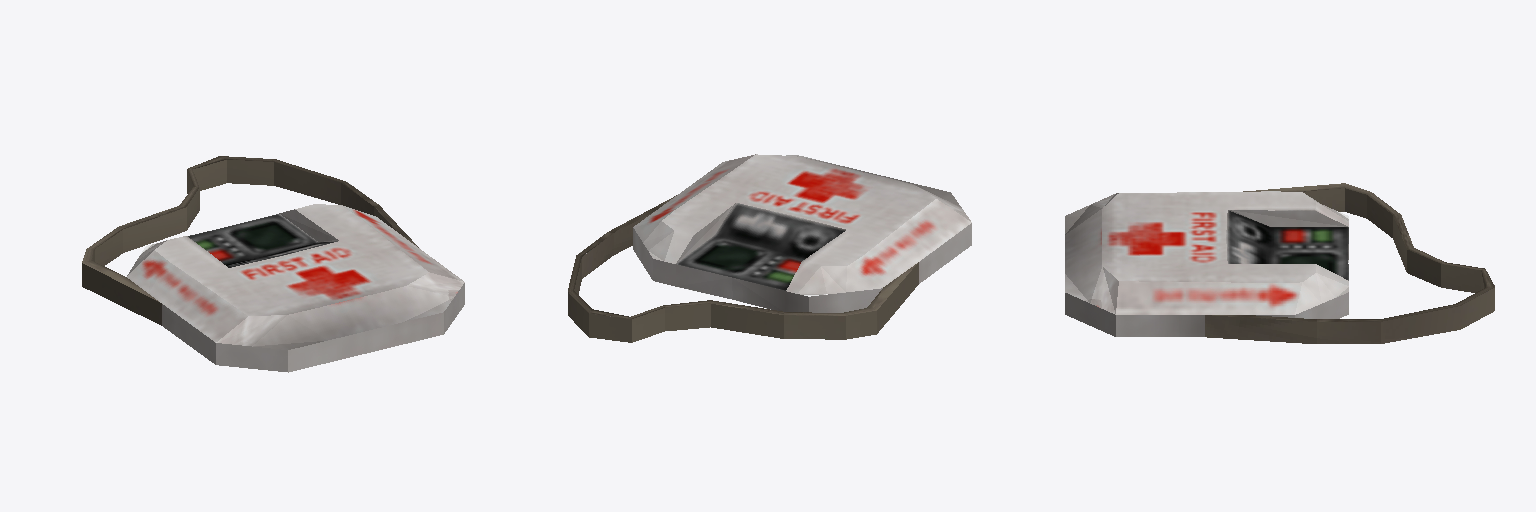
3 renders of one model, left to right at view 1: azimuth 30°, elevation 25°; view 2: azimuth 150°, elevation 25°; view 3: azimuth 270°, elevation 25°, orthographic.
Visible parts, largest first — view 1: Medkit; view 2: Medkit; view 3: Medkit.
Part boxes in pixels (bbox=[...]): Medkit: bbox=[82, 156, 464, 372]; Medkit: bbox=[568, 154, 971, 342]; Medkit: bbox=[1065, 183, 1494, 343].
Bounding box in the file's own units: 8.46 × 1.14 × 11.14.
1 materials, 1 textured.